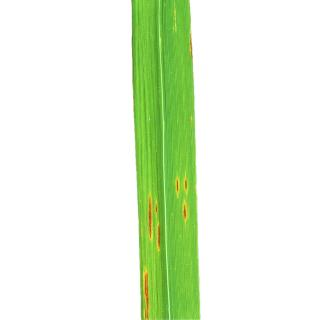Bercak-Cokelat-Sempit: (141, 191, 165, 255), (140, 266, 162, 320), (174, 168, 188, 200), (180, 200, 192, 224)
